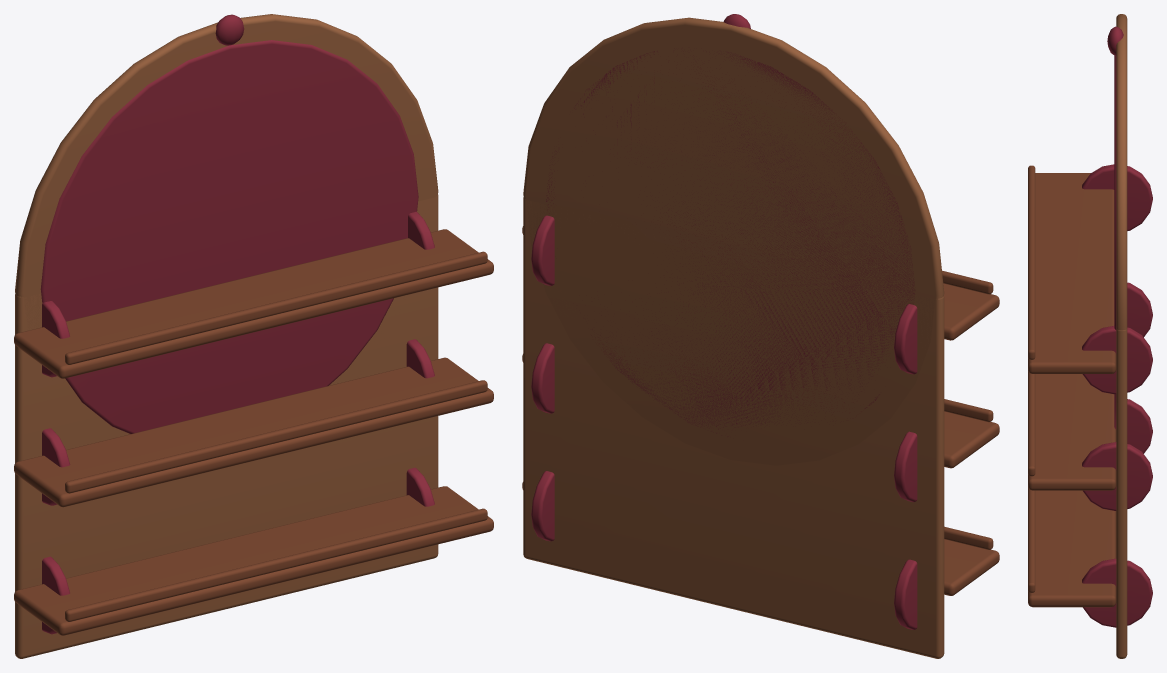
Rendered from wall-shelf.glb.
3 renders of one model, left to right at view 1: azimuth 30°, elevation 25°; view 2: azimuth 150°, elevation 25°; view 3: azimuth 270°, elevation 25°, orthographic. The views are drawn at different scales.
Visible parts, largest first — view 1: wall-shelf; view 2: wall-shelf; view 3: wall-shelf.
Part boxes in pixels (x1,y1,x2,y2): wall-shelf: [14, 14, 493, 658]; wall-shelf: [522, 14, 999, 658]; wall-shelf: [1028, 14, 1152, 658].
Size of the model in its own units: 1.24 by 1.62 by 0.34.
